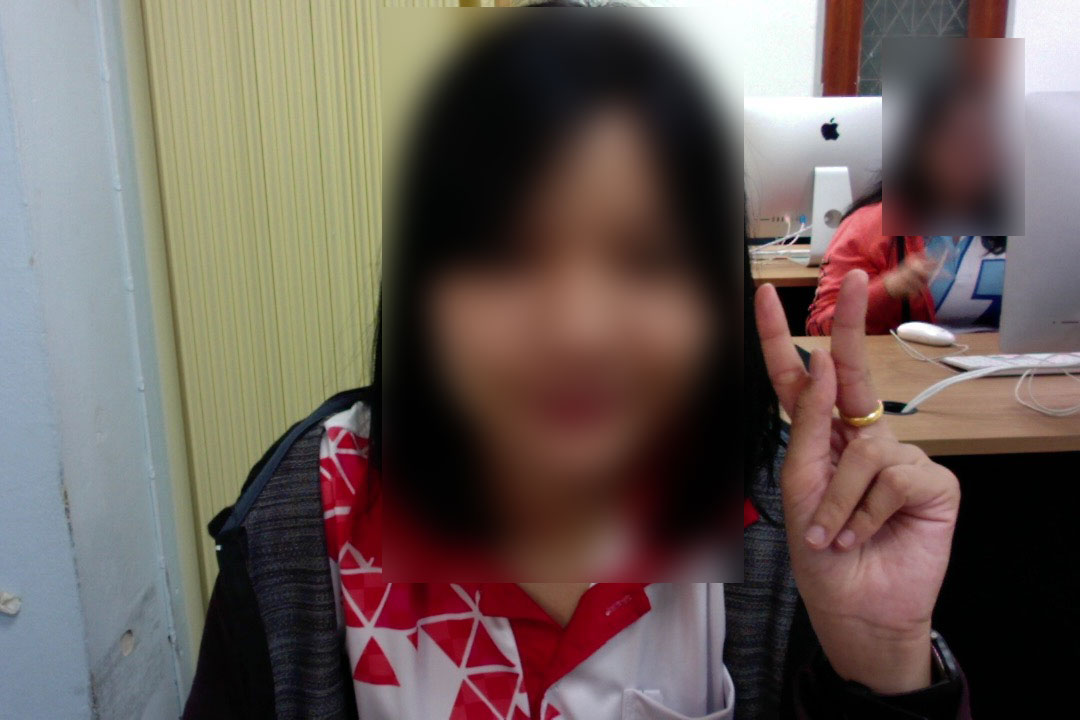ko: (745, 263, 963, 679)
